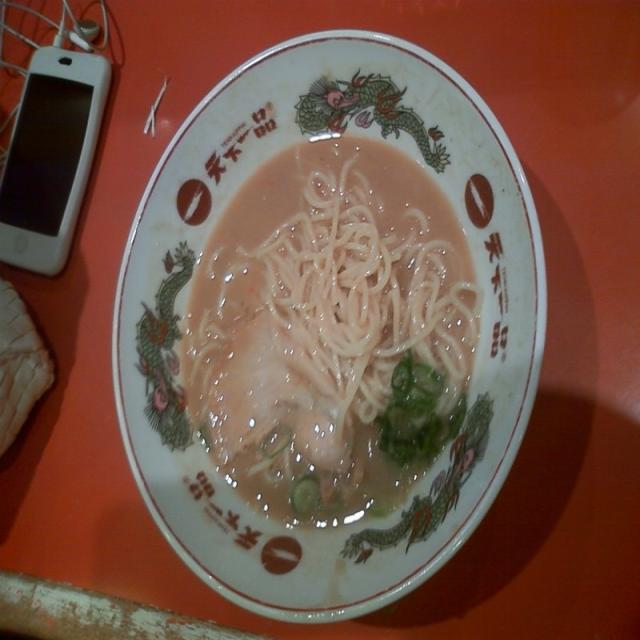面条主食: (164, 94, 482, 540)
